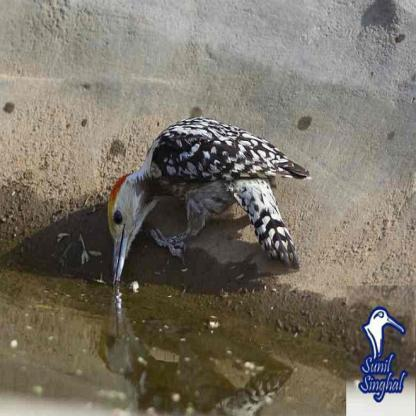Burung: (107, 118, 310, 282)
